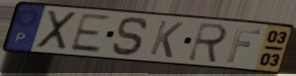E: (67, 12, 113, 54)
F: (225, 26, 264, 64)
K: (147, 19, 186, 60)
R: (185, 21, 230, 65)
S: (110, 15, 151, 58)
X: (35, 9, 79, 51)
